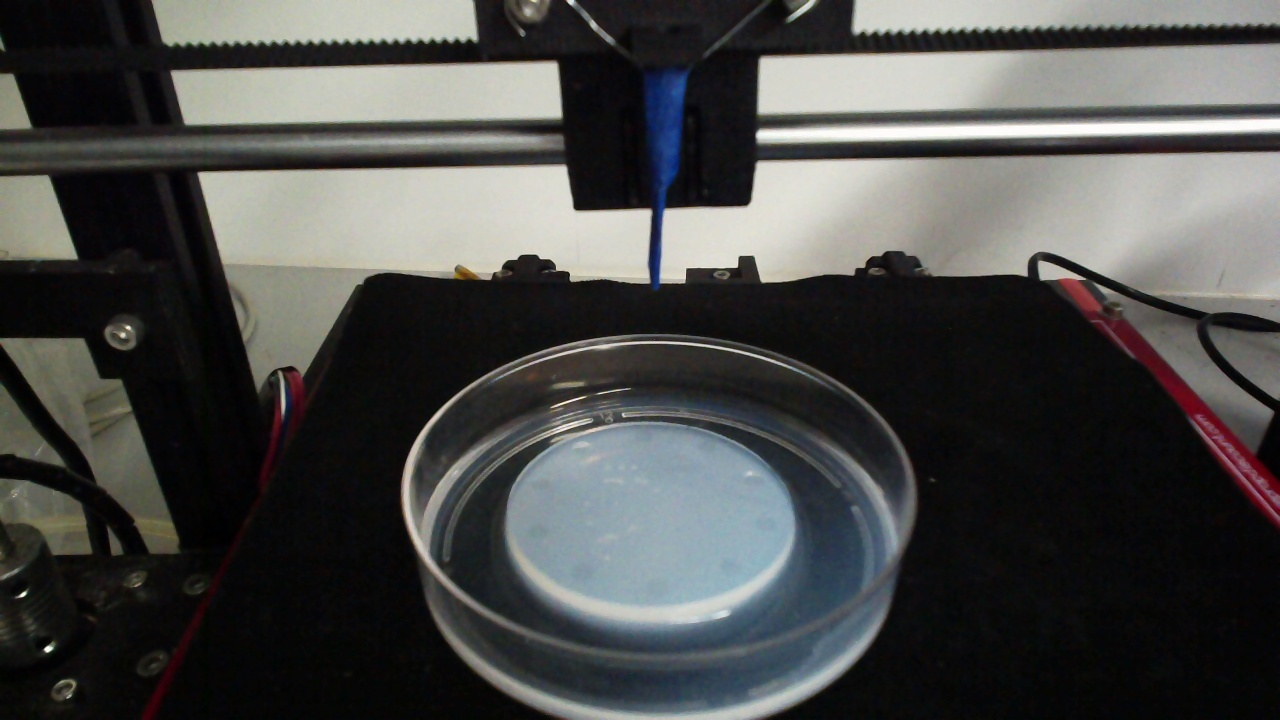groove: (566, 556, 597, 584), (644, 571, 673, 599), (523, 518, 552, 542), (527, 475, 556, 497), (718, 556, 744, 577), (742, 469, 765, 487), (754, 514, 777, 532), (569, 439, 591, 457), (632, 427, 653, 444), (697, 438, 717, 455)
needle: (648, 73, 690, 294)
